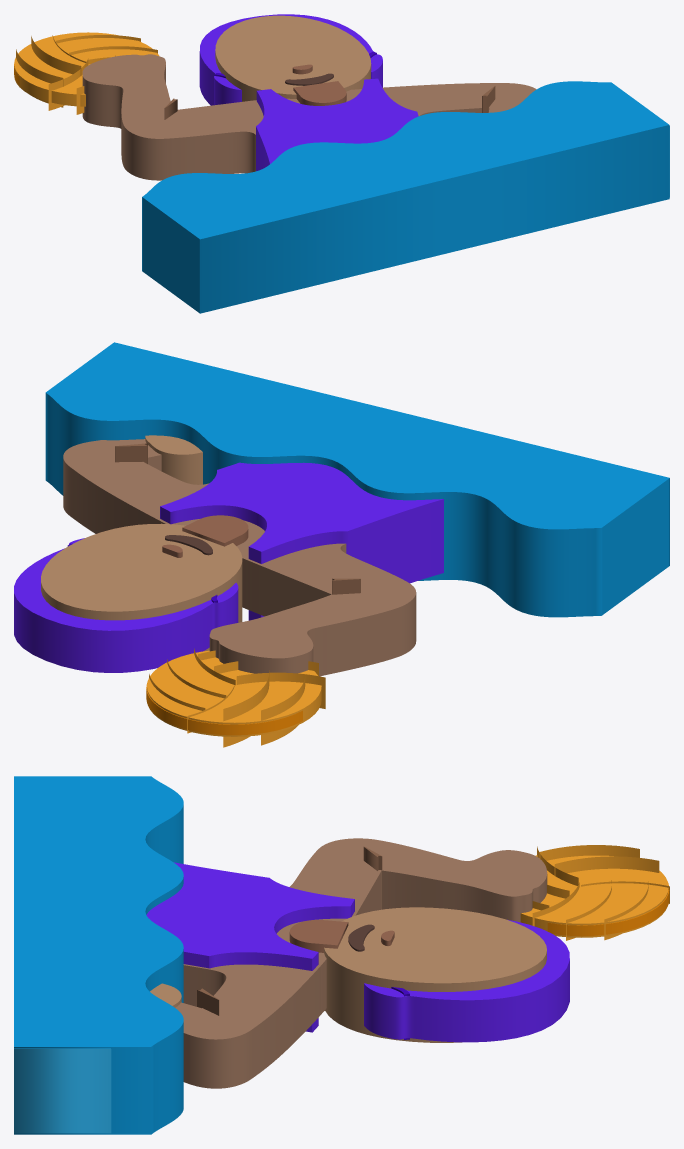
File: emoji_u1f93d_1f3fd_200d_2640.glb
The picture shows the model from 3 angles, top to bottom: view 1: azimuth 30°, elevation 25°; view 2: azimuth 150°, elevation 25°; view 3: azimuth 270°, elevation 25°; orthographic projection. The views are drawn at different scales.
Visible parts, largest first — view 1: emoji_u1f93d_1f3fd_200d_2640; view 2: emoji_u1f93d_1f3fd_200d_2640; view 3: emoji_u1f93d_1f3fd_200d_2640.
Part boxes in pixels (box(x1,y1,x2,y2)): emoji_u1f93d_1f3fd_200d_2640: box(14, 14, 669, 313); emoji_u1f93d_1f3fd_200d_2640: box(14, 342, 669, 747); emoji_u1f93d_1f3fd_200d_2640: box(14, 776, 669, 1134).
Size of the model in its own units: 0.0331 by 0.005 by 0.0338.
